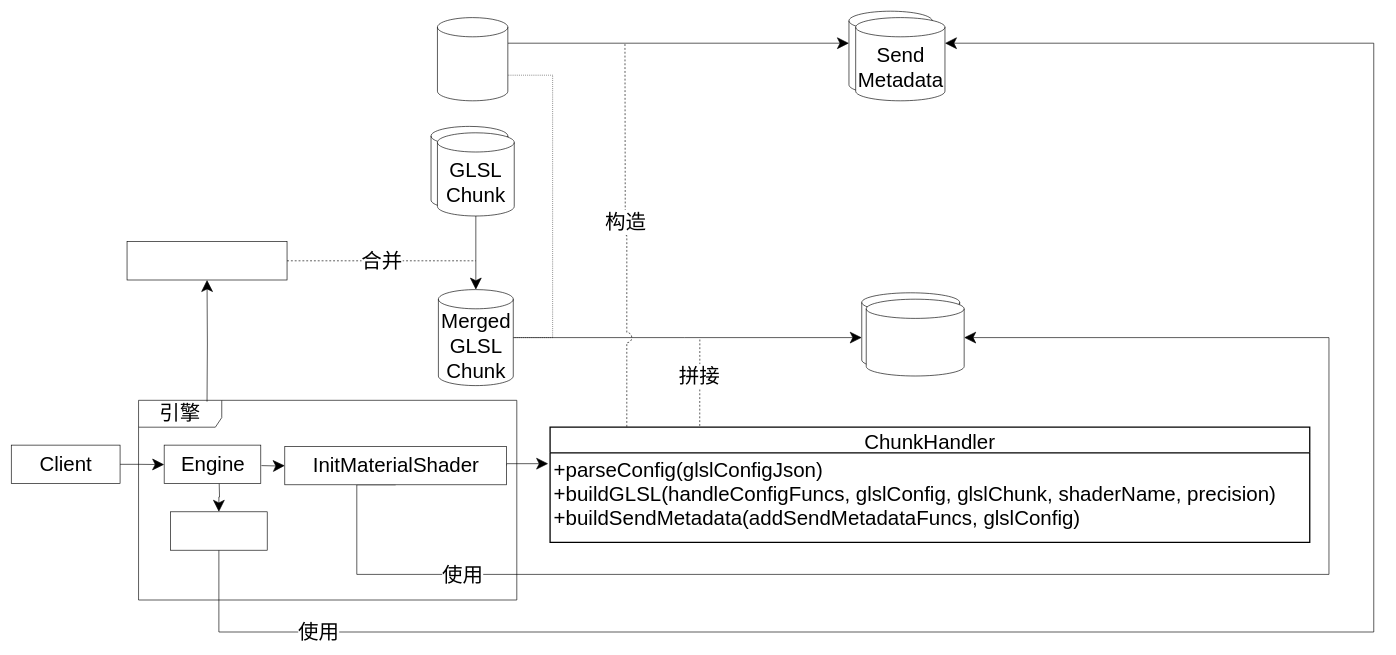
This 1396x655 diagram has some shape labels left out. The centre of each missing label's shape, as x and y in pixels:
"ChunkConverter" belongs at point 206,260.
"GLSL Config" belongs at point 472,59.
"Render" belongs at point 218,530.
"Target GLSL" belongs at point 915,337.
